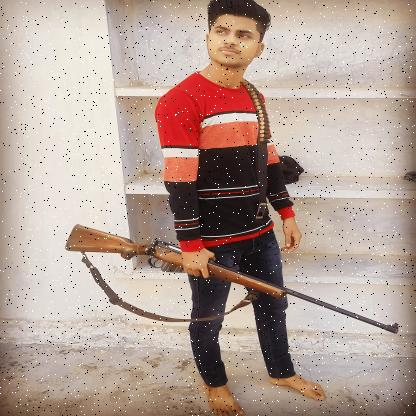rifle: (63, 222, 401, 336)
